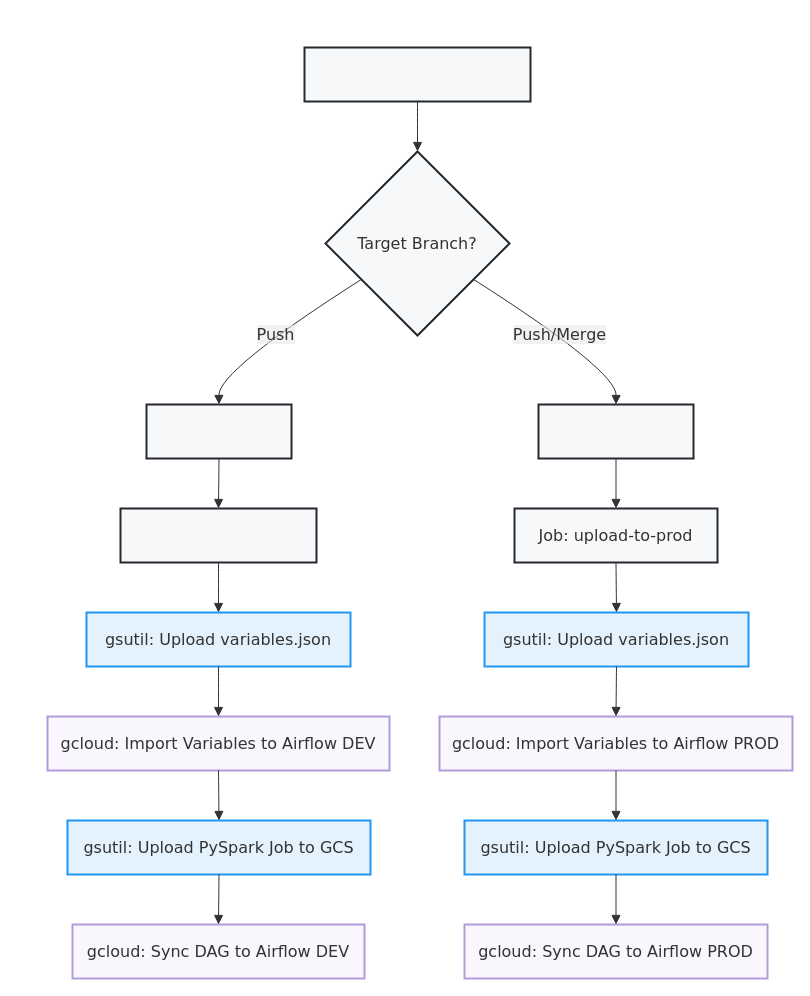
Image size: 810x996. Some labels were removed from this diagram. The shapes that lost their labels are listed below. From the top down, each one's centre as x and y in pixels, then its label:
(417,74): Developer Pushes Code
(218,431): Branch: dev
(615,431): Branch: main
(218,535): Job: upload-to-dev
